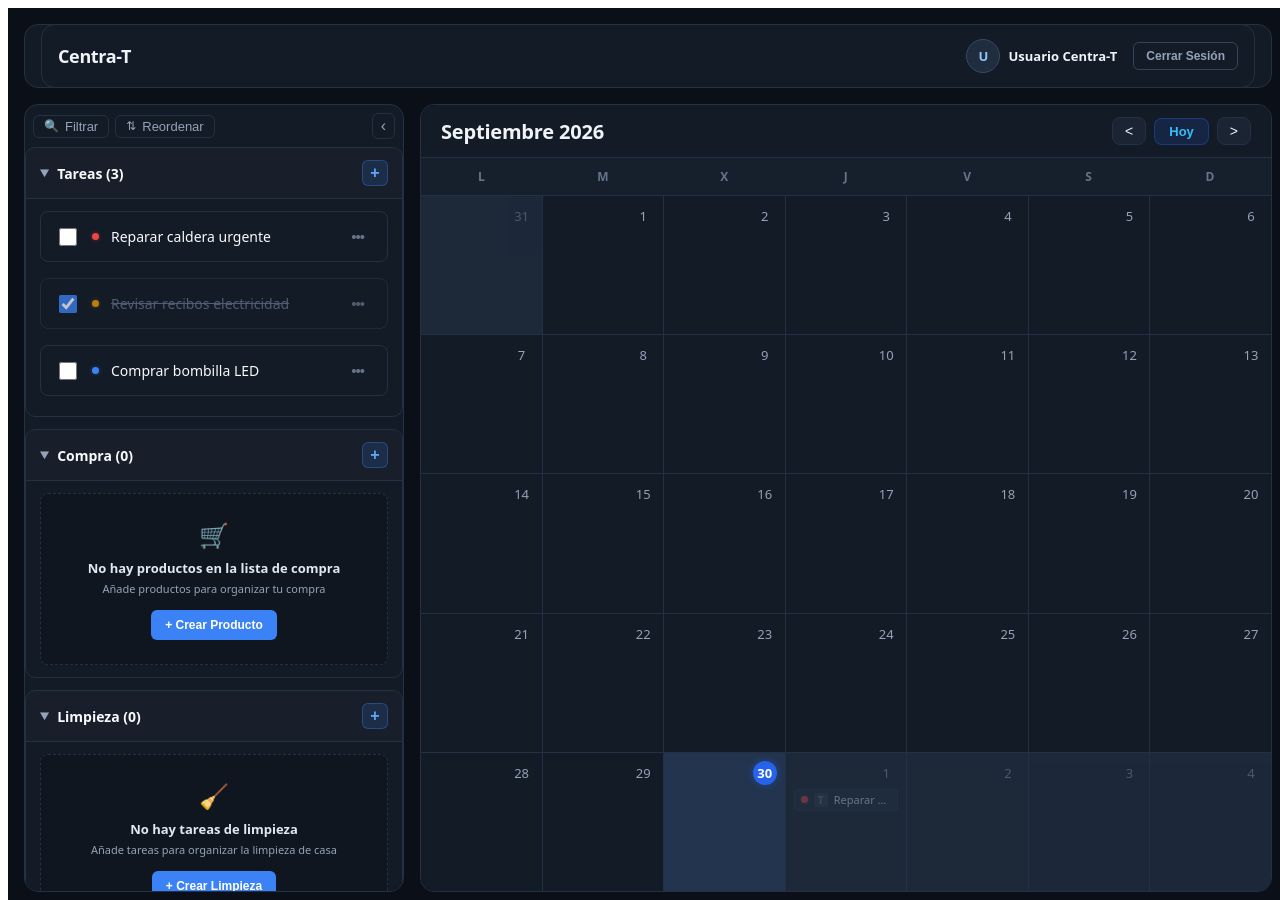
Test: App Root Integration - Filtrado Reactivo y Reordenación en Caliente (RV-A06) › debe ocultar en caliente una tarea al completarla cuando el filtro SOLO_PENDIENTES está activo
Note: Abrir FilterModal
Click the button "🔍 Filtrar" at (71, 126), box [33, 114, 109, 138]
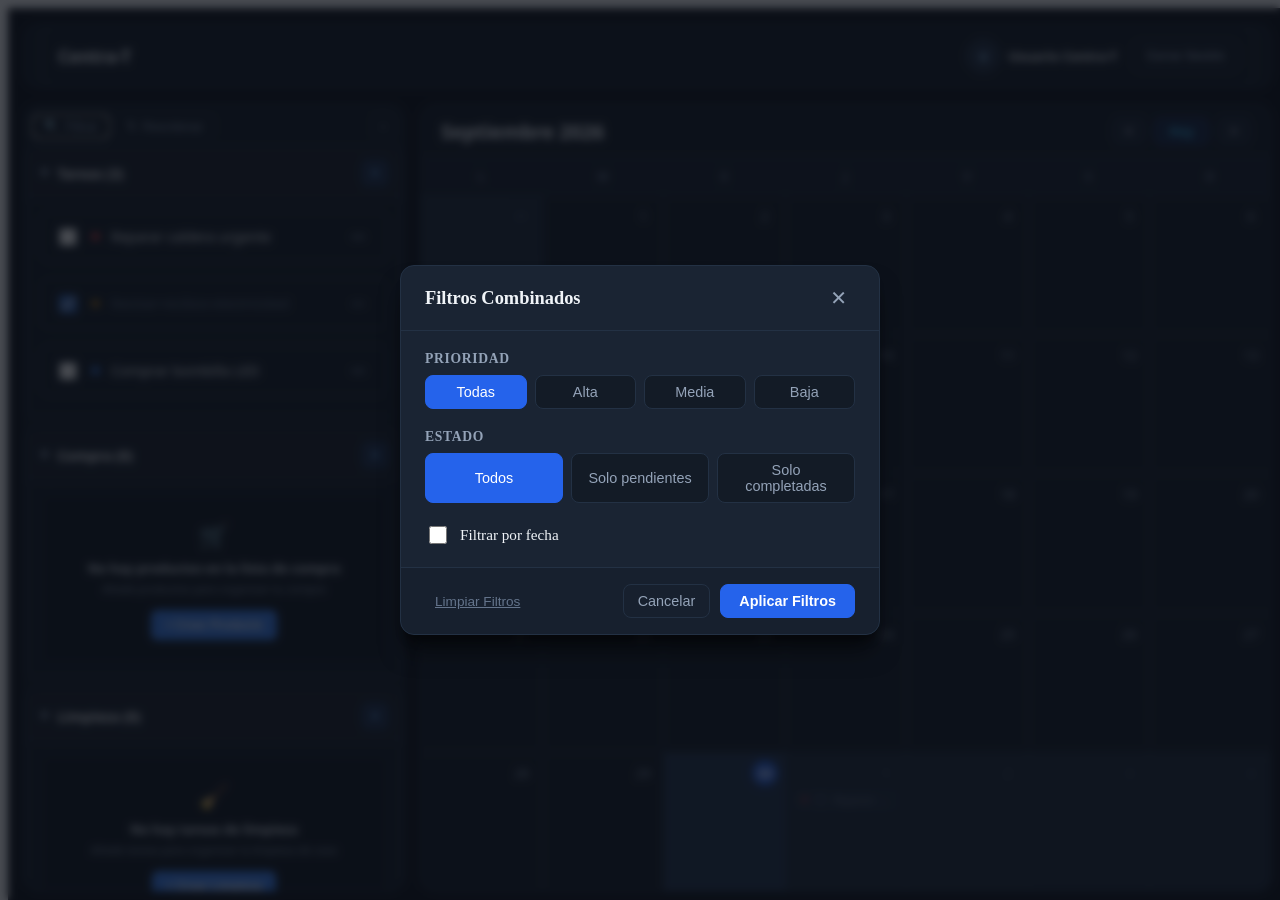
Note: Seleccionar Solo pendientes y Aplicar
Click the button "Solo pendientes" at (640, 478), box [571, 453, 709, 503]
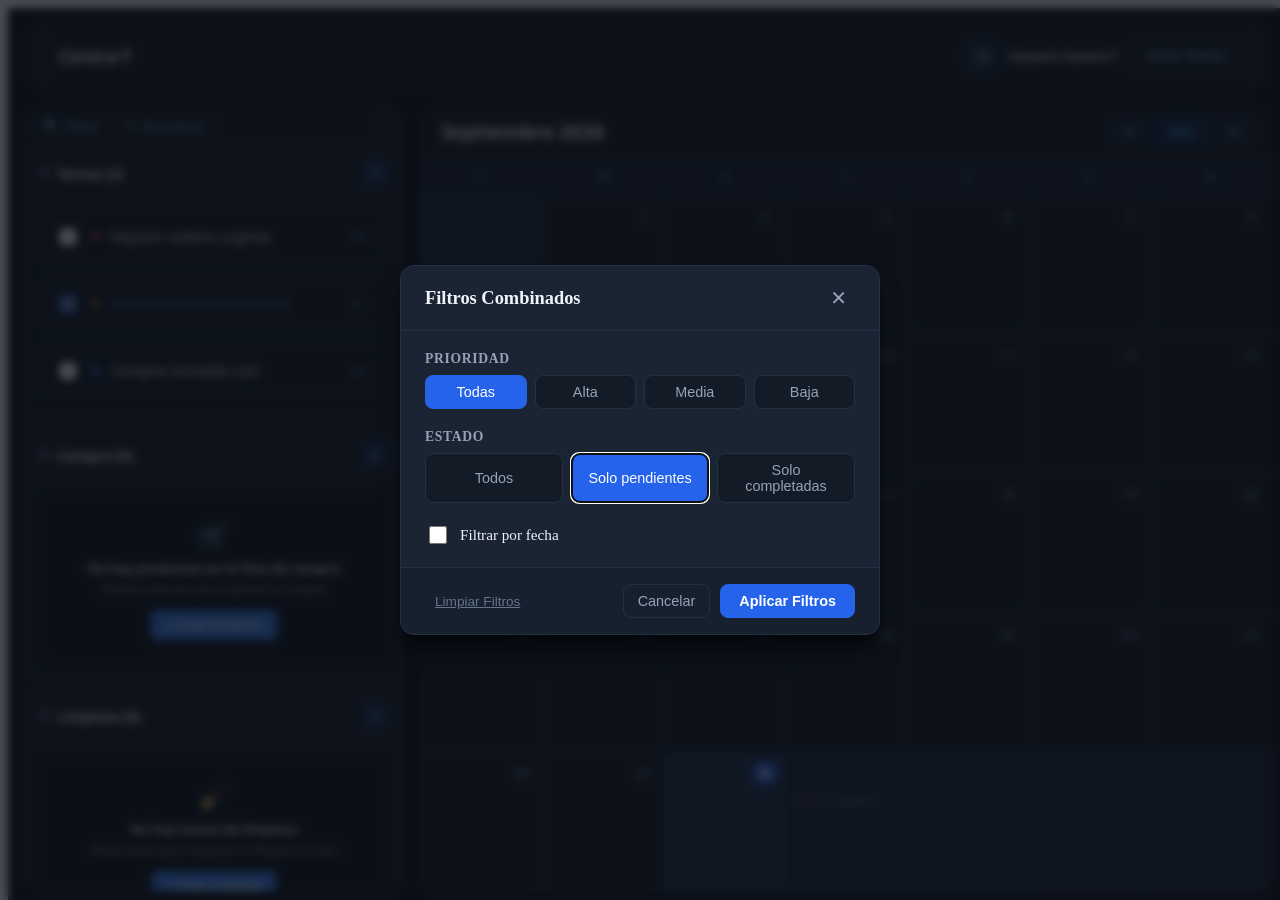
Click the button "Aplicar Filtros" at (788, 601), box [720, 584, 855, 618]
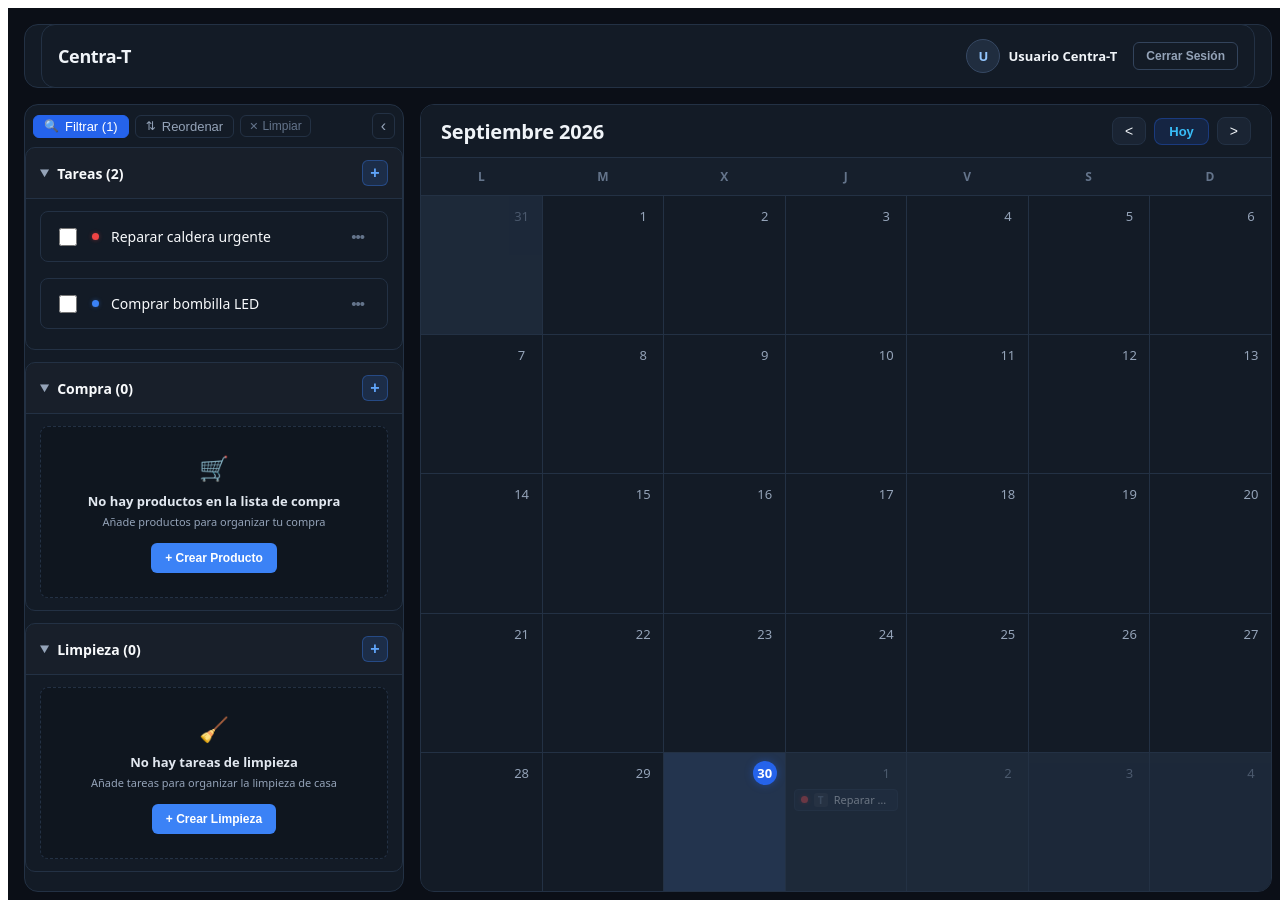
Expected: the 1st text "Reparar caldera urgente" is shown, [111, 227, 271, 246]
Expected: the text "Revisar recibos electricidad" is gone
Expected: the button "▶ Tareas (2) +" is shown, [26, 148, 402, 198]
Note: Completar en caliente 'Reparar caldera urgente'
Click the checkbox named "completar tarea reparar caldera urgente" at (68, 236), box [59, 228, 77, 246]
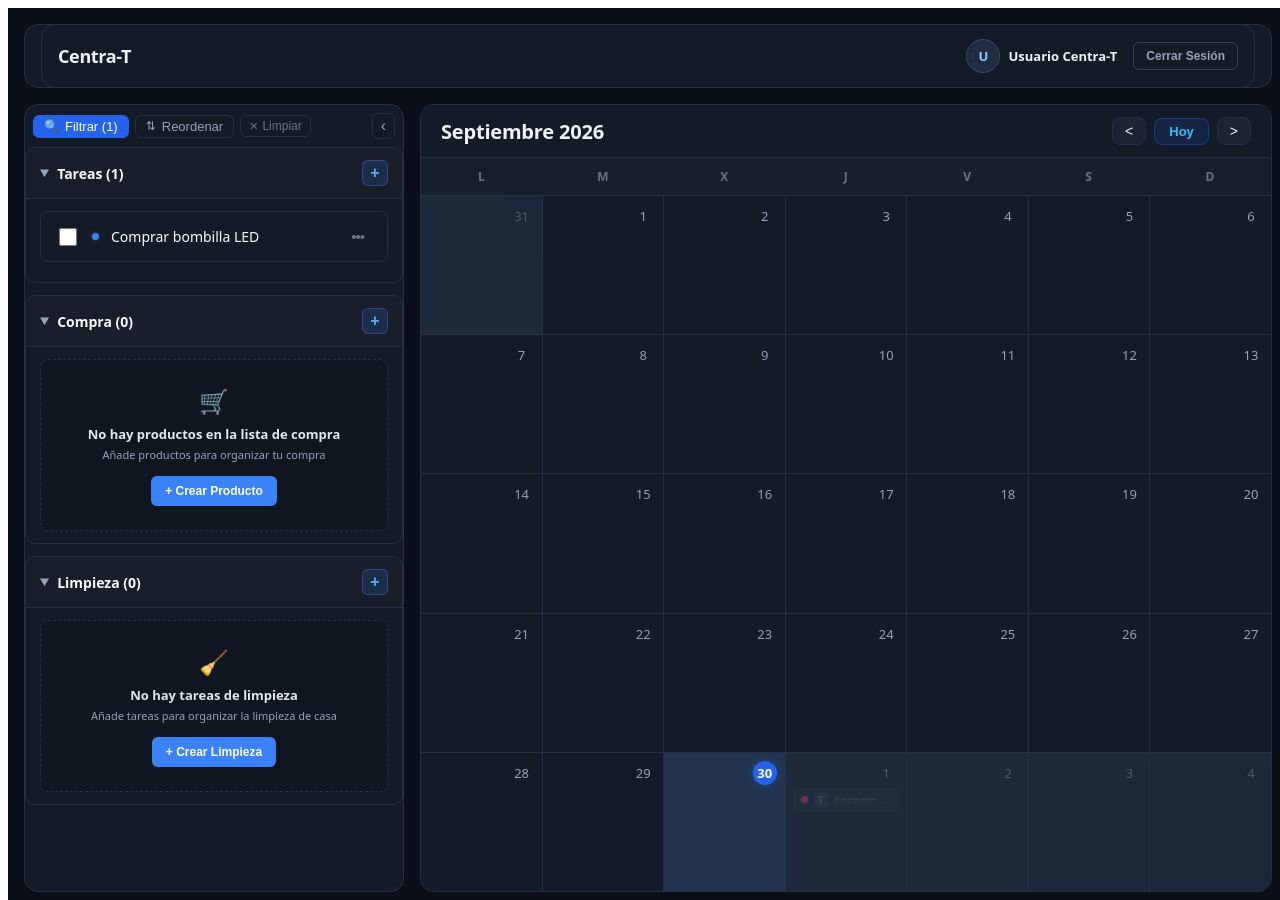
Expected: the text "Comprar bombilla LED" is shown, [111, 227, 259, 246]
Expected: the button "▶ Tareas (1) +" is shown, [26, 148, 402, 198]
Note: Restaurar filtros con [Limpiar] para volver a ver todas
Click the button with aria-label "limpiar filtros" at (276, 126), box [240, 115, 311, 137]
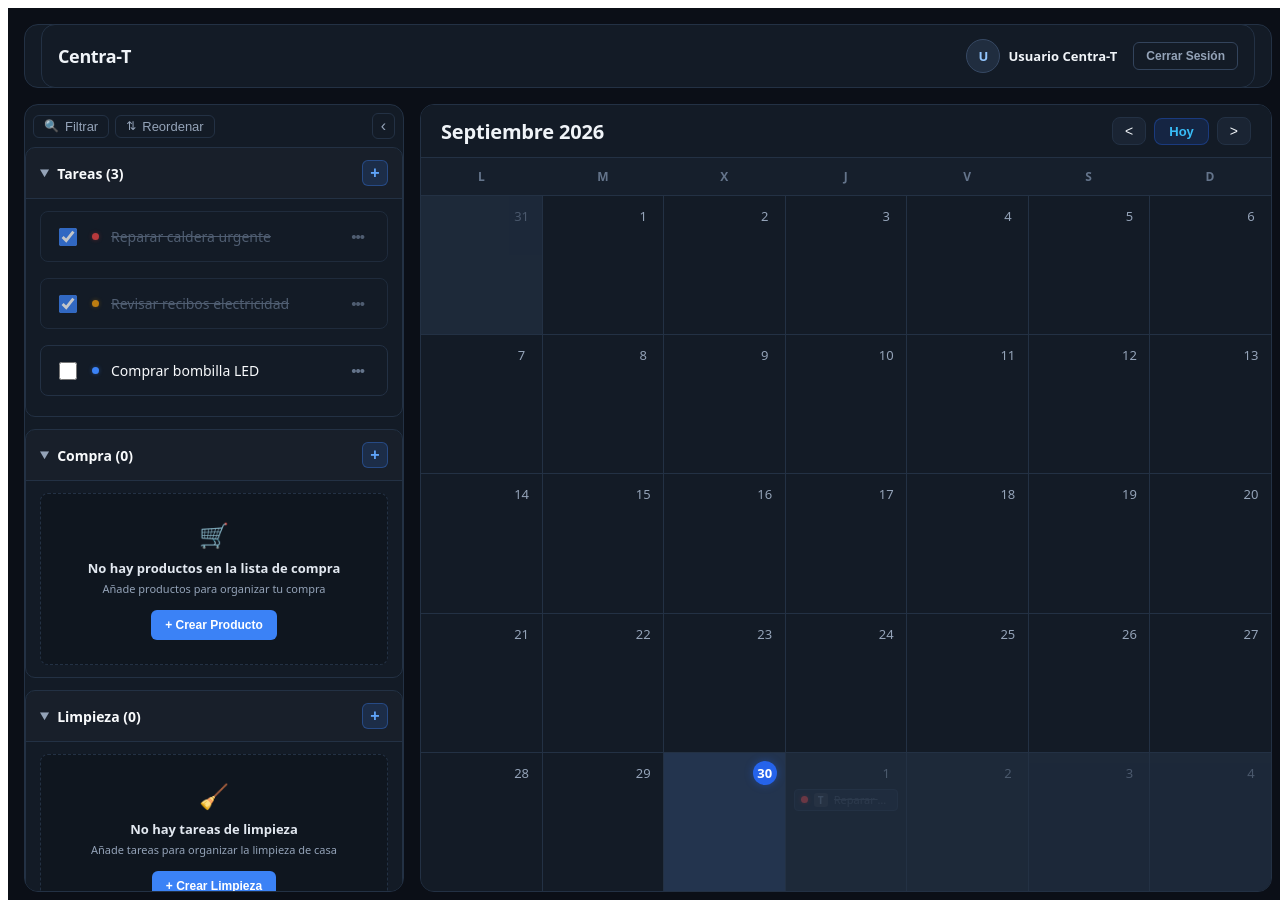
Expected: the 1st text "Reparar caldera urgente" is shown, [111, 227, 271, 246]
Expected: the text "Revisar recibos electricidad" is shown, [111, 294, 289, 313]
Expected: the button "▶ Tareas (3) +" is shown, [26, 148, 402, 198]
